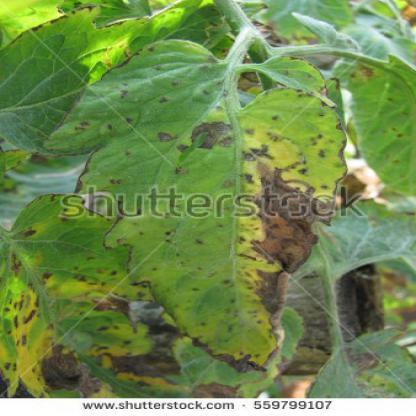Tomato leaf late blight: (42, 26, 347, 385), (4, 193, 187, 393)
